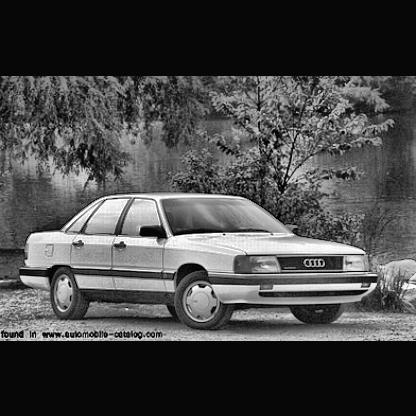Audi 100 Sedan 1994: (19, 194, 380, 330)
